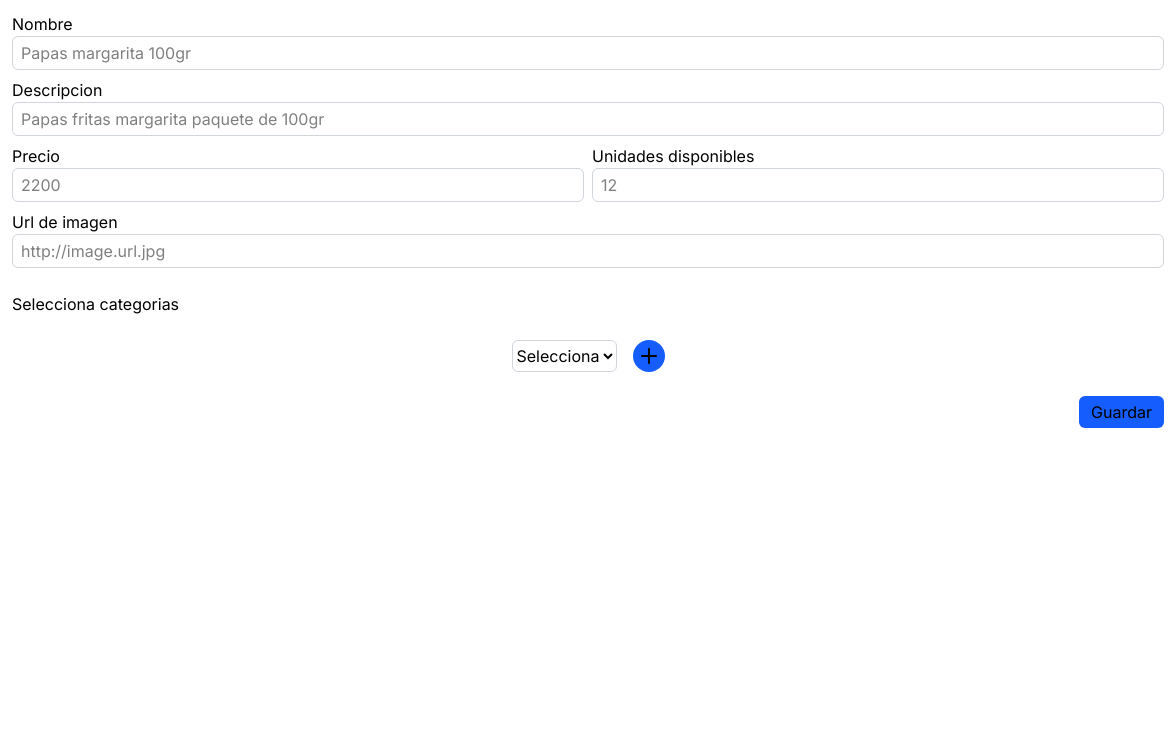
it: Create new product component › should advise to user that description should contains at least 5 words
Type "less than 5 words" into the field with test id "input-description".
click(588, 119); type("less than 5 words")  # box [12,102,1164,136]
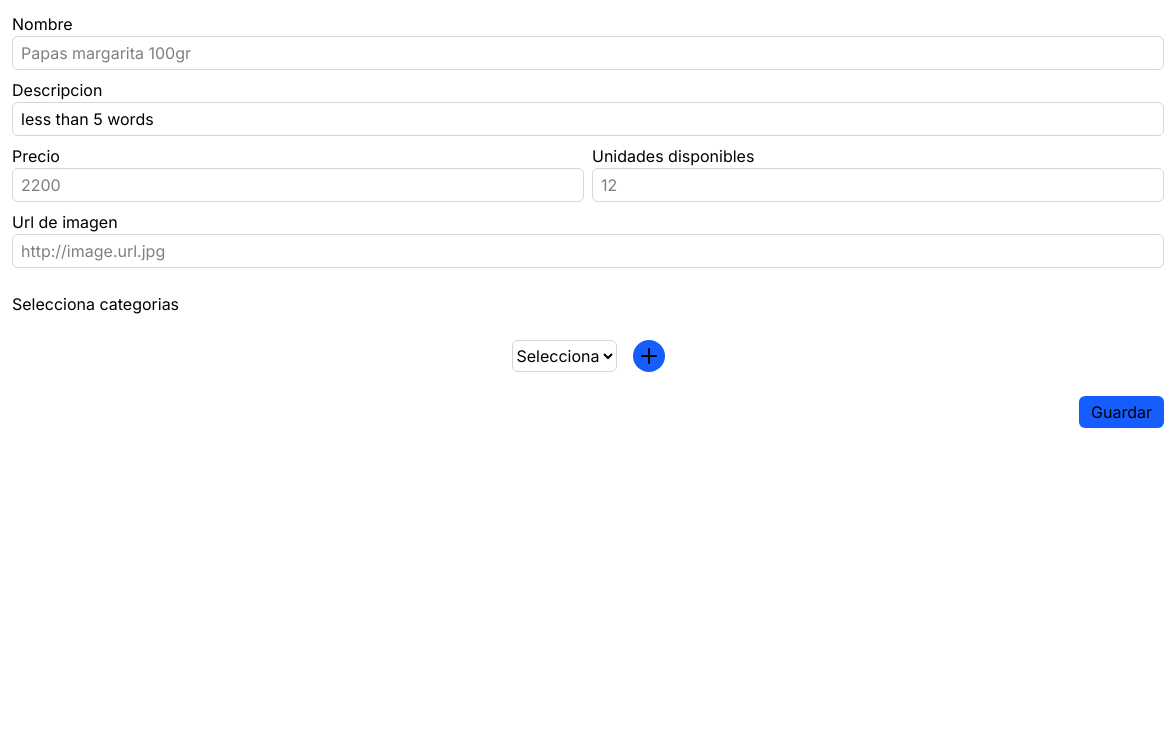
Submit the form with test id "form", box [12,12,1164,428]
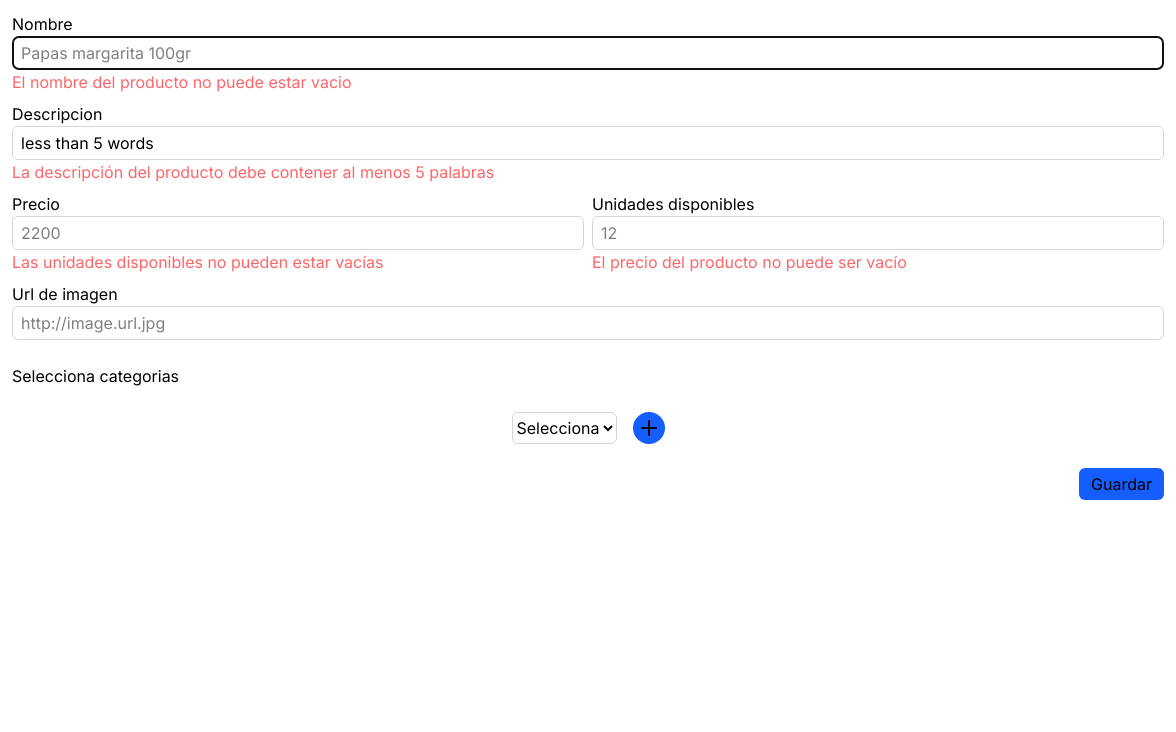
Now the text "La descripción del producto debe contener al menos 5 palabras" is shown, box [12,162,494,182]
